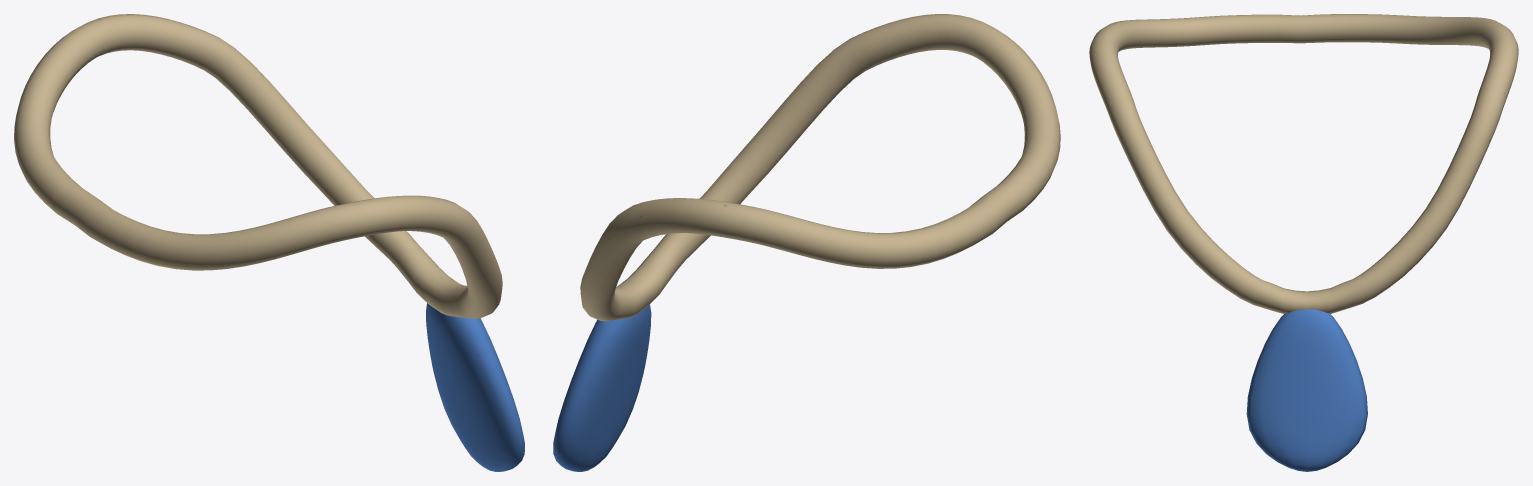
File: necklace 1.fbx
3 renders of one model, left to right at view 1: azimuth 30°, elevation 25°; view 2: azimuth 150°, elevation 25°; view 3: azimuth 270°, elevation 25°, orthographic. The views are drawn at different scales.
Visible parts, largest first — view 1: Necklace; view 2: Necklace; view 3: Necklace.
Boxes of the visible parts, x1,y1,x2,y2 form: Necklace: (14, 14, 524, 471); Necklace: (553, 14, 1060, 471); Necklace: (1089, 14, 1518, 471).
Bounding box in the file's own units: 30.2 × 25.95 × 28.51.
